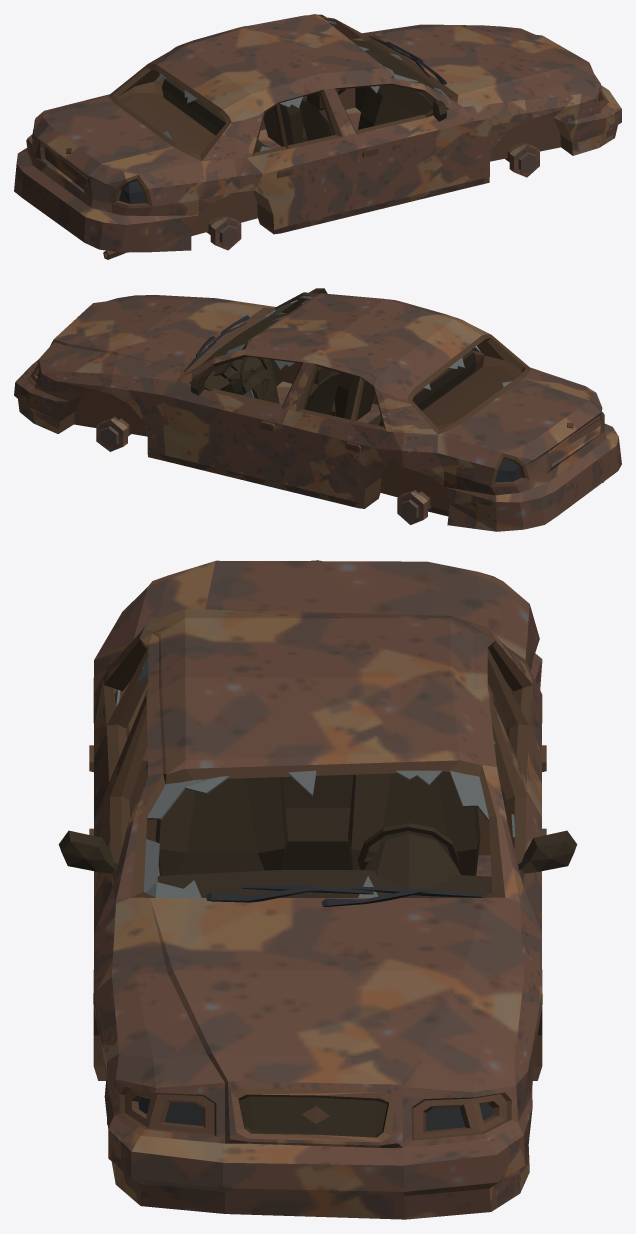
File: CarWrecked_1.fbx
The picture shows the model from 3 angles, top to bottom: view 1: azimuth 30°, elevation 25°; view 2: azimuth 150°, elevation 25°; view 3: azimuth 270°, elevation 25°; orthographic projection. The views are drawn at different scales.
Visible parts, largest first — view 1: SM_Prop_Car_Wrecked_Rusted_01; view 2: SM_Prop_Car_Wrecked_Rusted_01; view 3: SM_Prop_Car_Wrecked_Rusted_01.
Part boxes in pixels (left/top/right/bottom): SM_Prop_Car_Wrecked_Rusted_01: left=14, top=14, right=621, bottom=259; SM_Prop_Car_Wrecked_Rusted_01: left=14, top=288, right=621, bottom=531; SM_Prop_Car_Wrecked_Rusted_01: left=58, top=560, right=577, bottom=1219.
Bounding box in the file's own units: 685 × 168 × 288.
1 material, 1 textured.
